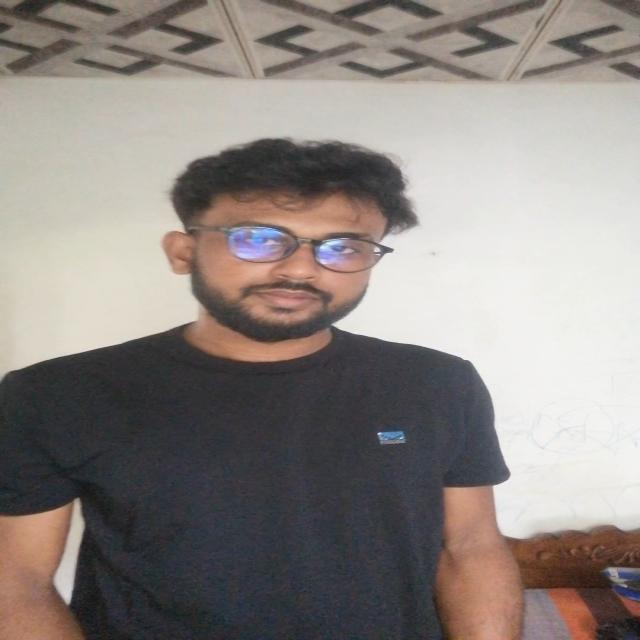Person: (0, 131, 518, 640)
